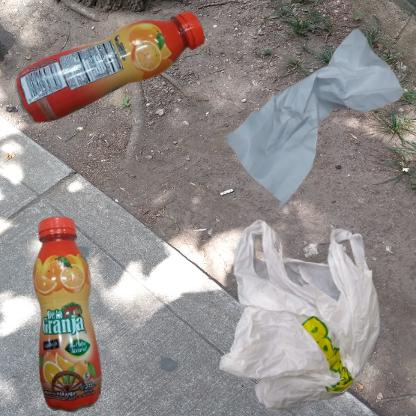bolsa: (213, 213, 398, 416)
botella: (10, 213, 137, 416), (10, 10, 219, 129)
papel: (213, 10, 416, 233)
